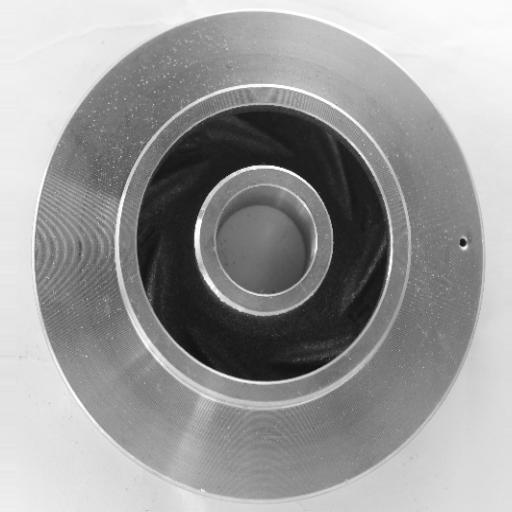pit: (448, 224, 473, 258)
unpolished_casting: (32, 8, 486, 501)
